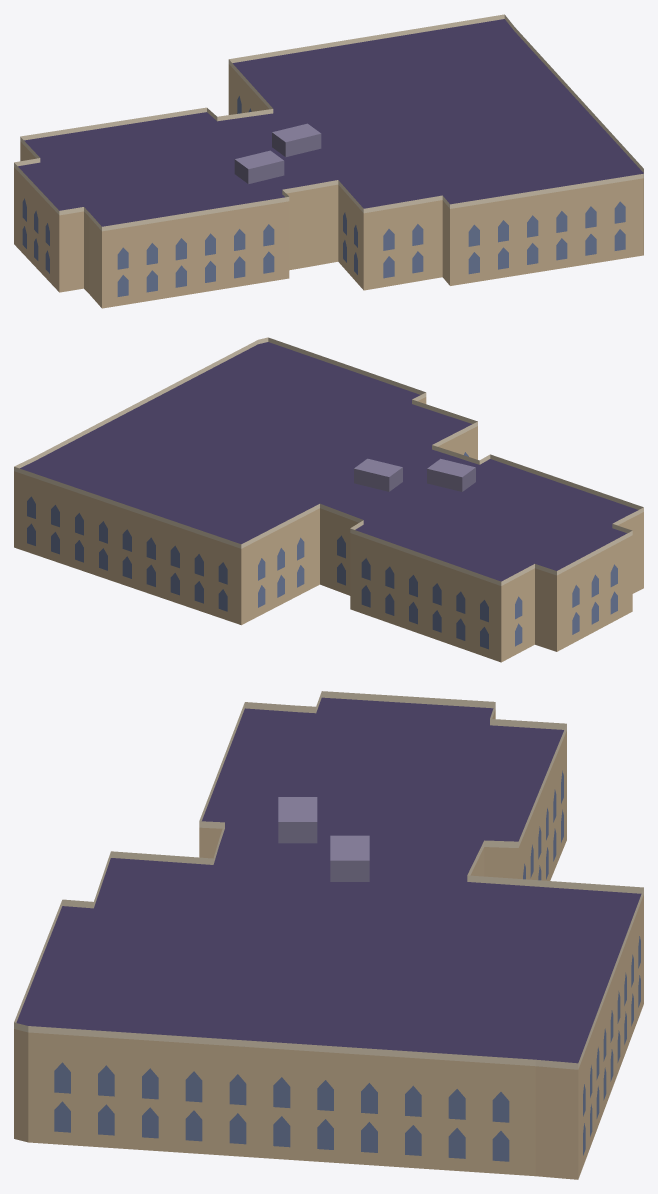
Rendered from b-100-day.glb.
The picture shows the model from 3 angles, top to bottom: view 1: azimuth 30°, elevation 25°; view 2: azimuth 150°, elevation 25°; view 3: azimuth 270°, elevation 25°; orthographic projection. The views are drawn at different scales.
Visible parts, largest first — view 1: campus/b-100-day-0; view 2: campus/b-100-day-0; view 3: campus/b-100-day-0.
Part boxes in pixels (bbox=[...]): campus/b-100-day-0: bbox=[14, 14, 643, 308]; campus/b-100-day-0: bbox=[14, 337, 643, 662]; campus/b-100-day-0: bbox=[14, 691, 643, 1179].
Size of the model in its own units: 67.46 by 11.1 by 48.26.
